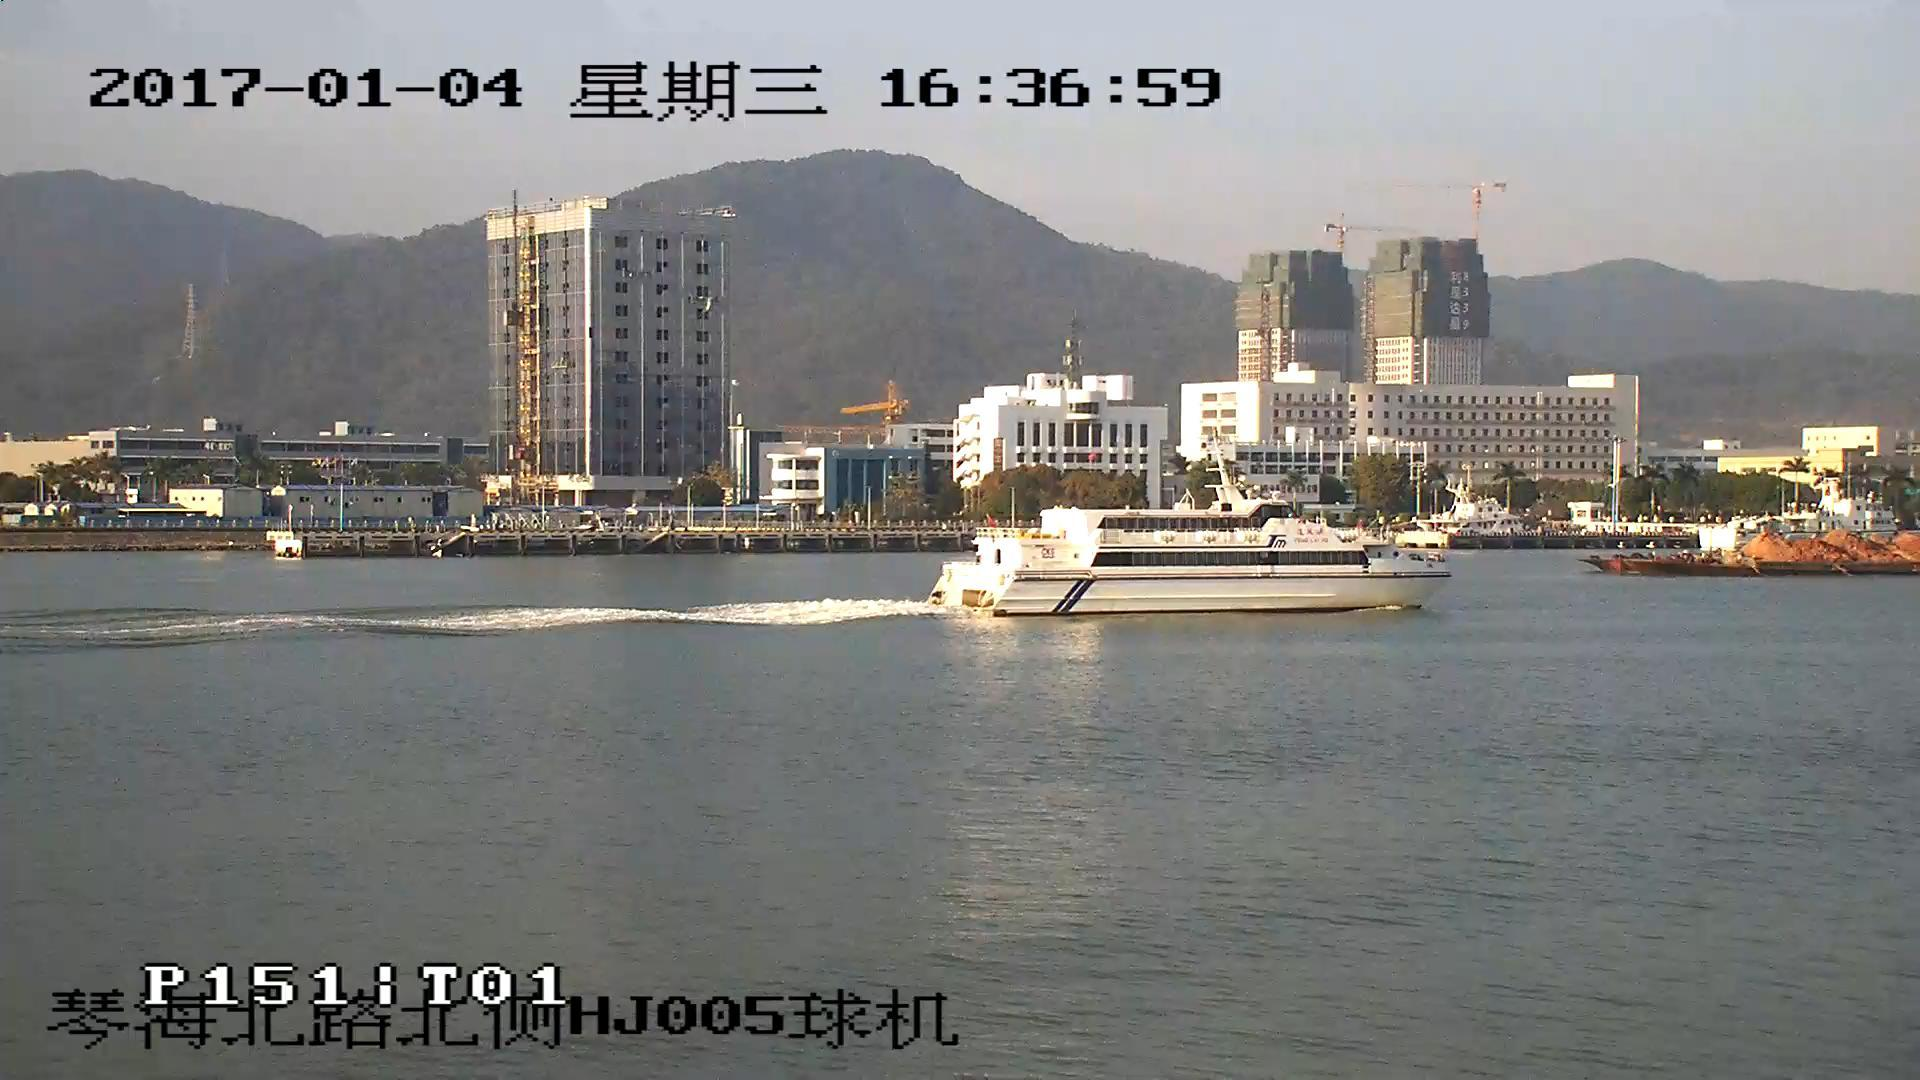Ship: (934, 436, 1453, 617), (1597, 524, 1920, 582)
